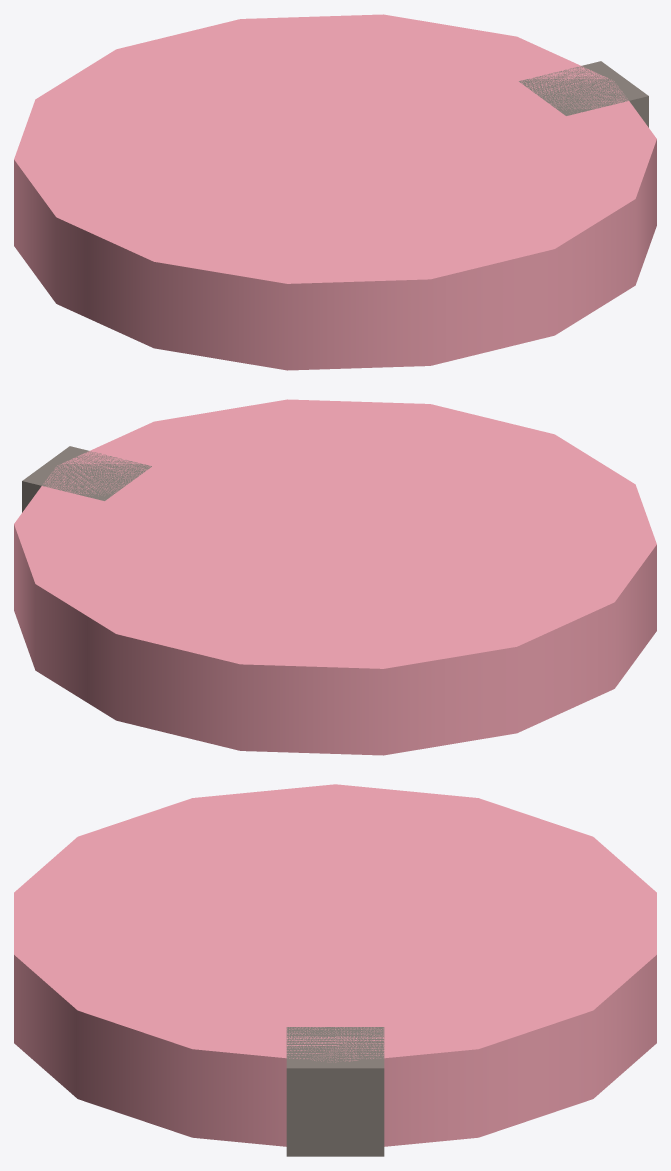
The model's file is hat_band.glb.
3 views of the same model, one above another, from view 1: azimuth 30°, elevation 25°; view 2: azimuth 150°, elevation 25°; view 3: azimuth 270°, elevation 25° (orthographic). The views are drawn at different scales.
Parts seen in each view (by area): view 1: hat_band; view 2: hat_band; view 3: hat_band.
Boxes of the visible parts, x1,y1,x2,y2 form: hat_band: [14, 14, 656, 370]; hat_band: [14, 399, 656, 755]; hat_band: [14, 784, 656, 1156].
Size of the model in its own units: 27.5 by 4 by 26.32.
